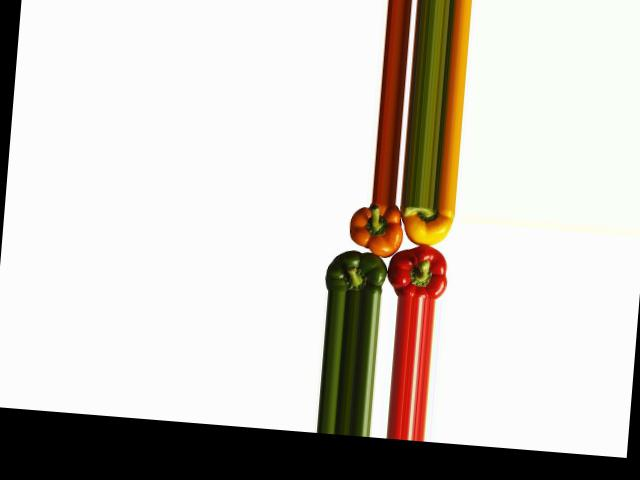bell_pepper: (394, 204, 456, 250)
